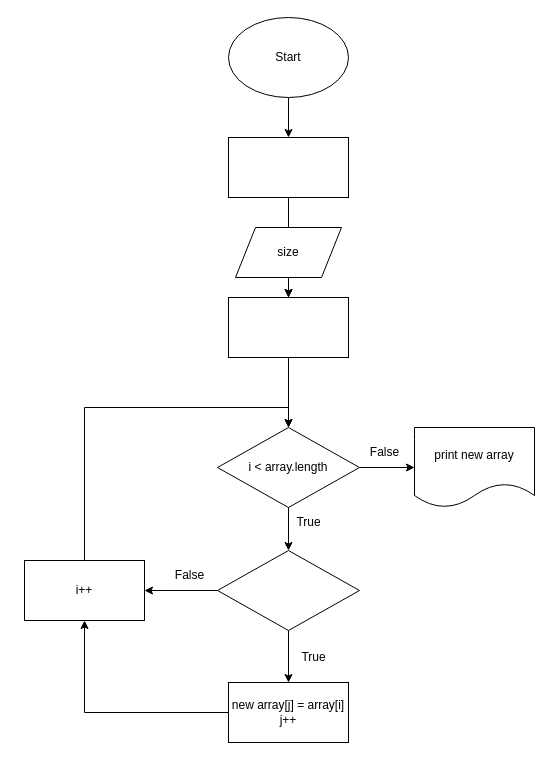
Image size: 552x760. Some labels were removed from this diagram. Each missing label, with the centre of its shape:
array = array[size]: (x=288, y=327)
array[i] <= 3: (x=288, y=590)
string[] array i = 0 j = 0: (x=288, y=167)
